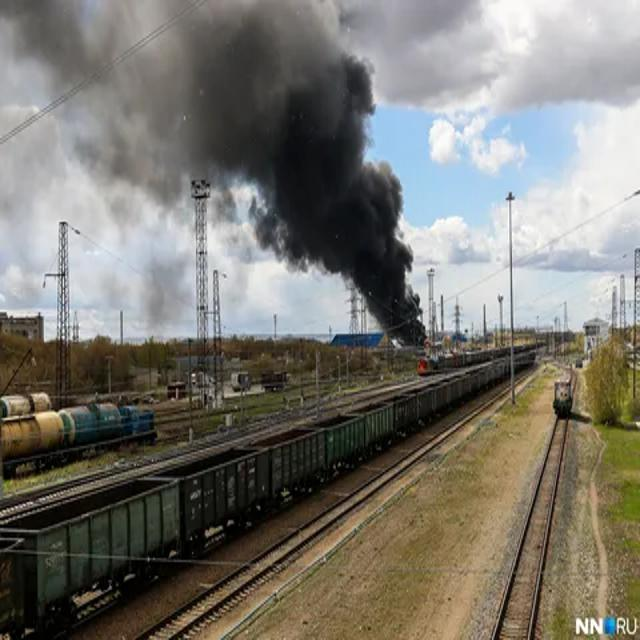Smoke: (174, 2, 430, 344)
